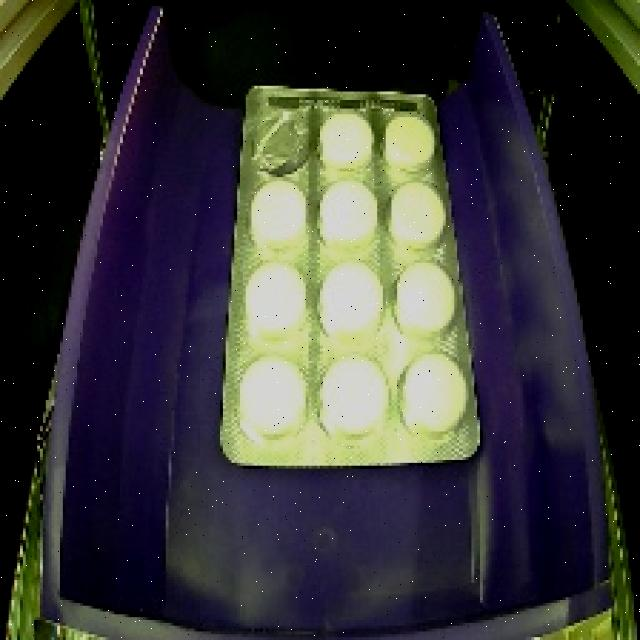med_plate: (211, 68, 490, 479)
